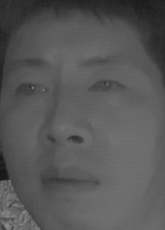eye: (87, 70, 124, 99), (12, 76, 50, 101)
mouth: (38, 159, 100, 200)
